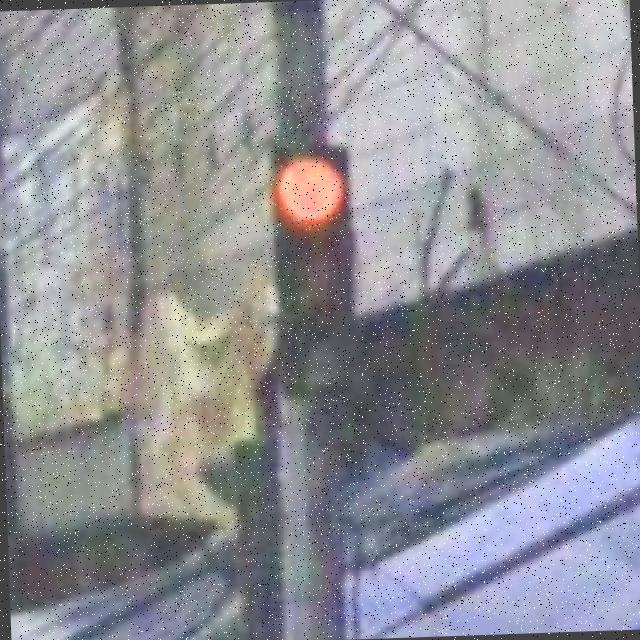Czerwone swiatlo: (270, 140, 358, 398)
